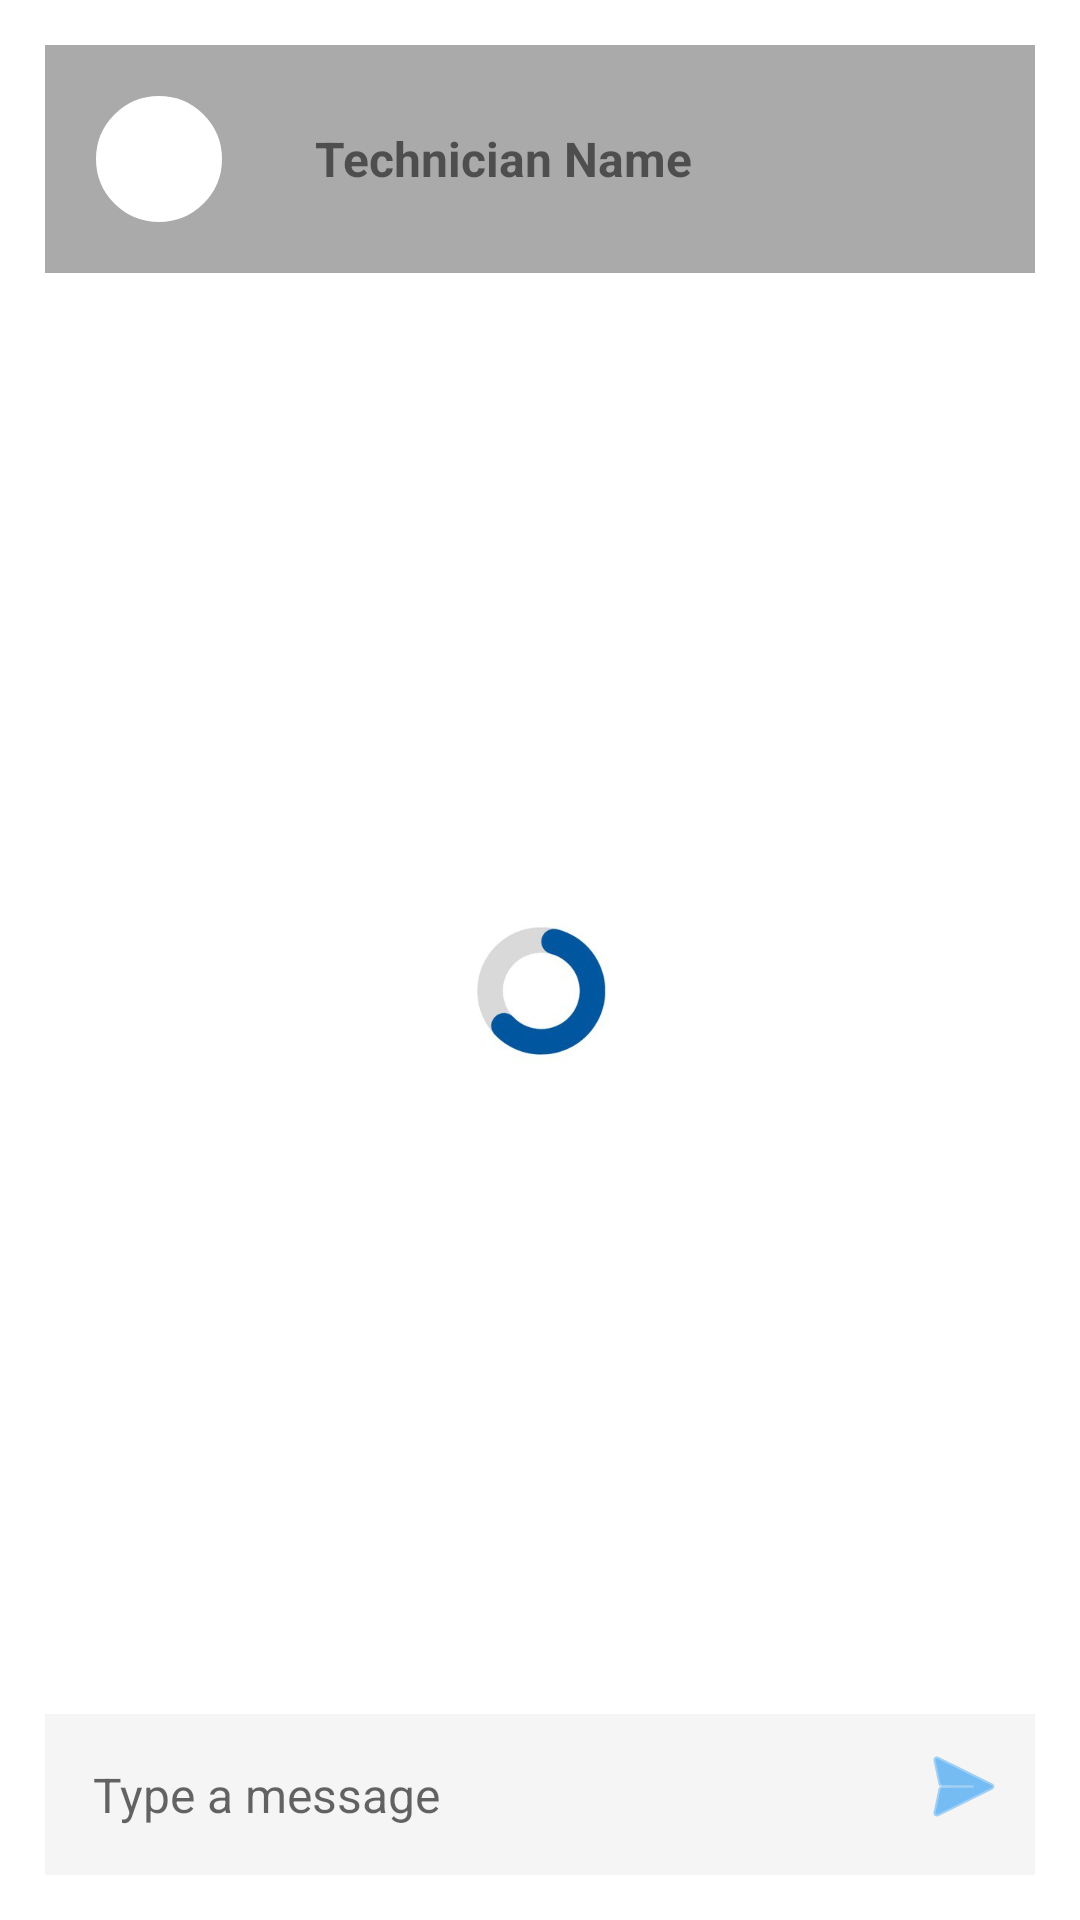

Named icons in this screenshot (1080*1920) and their centers, point (x, y):
Send: point (964, 1786)
